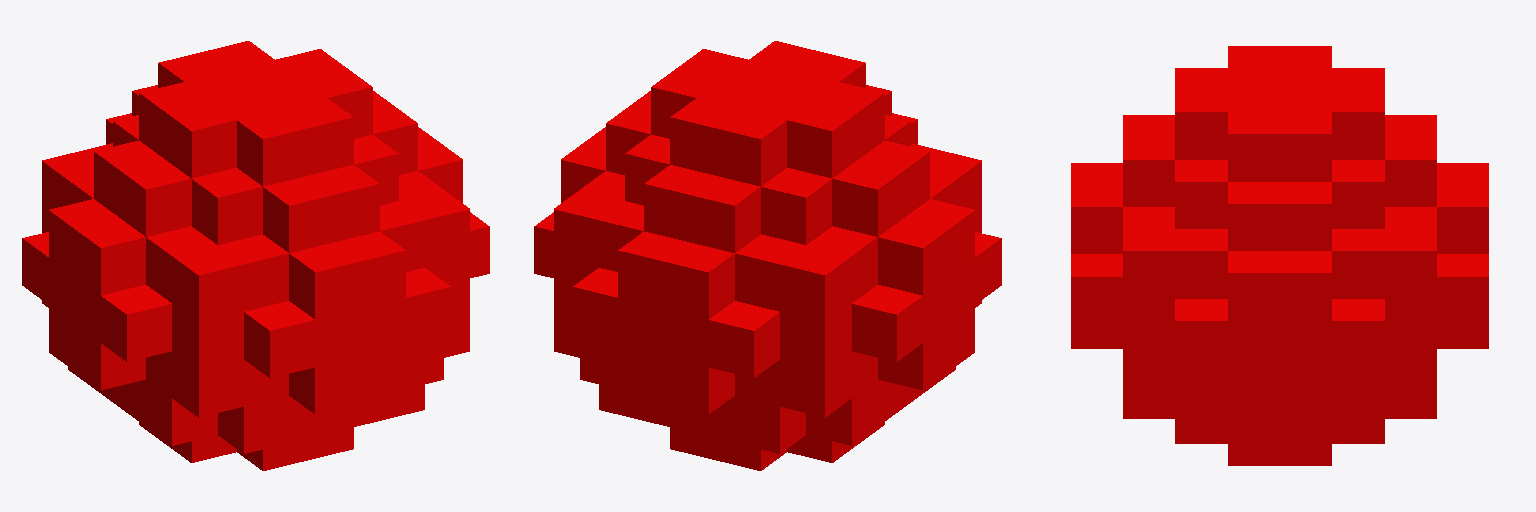
3 renders of one model, left to right at view 1: azimuth 30°, elevation 25°; view 2: azimuth 150°, elevation 25°; view 3: azimuth 270°, elevation 25°, orthographic.
Parts seen in each view (by area): view 1: object 1; view 2: object 1; view 3: object 1.
Boxes of the visible parts, x1,y1,x2,y2 form: object 1: [22, 41, 489, 470]; object 1: [534, 41, 1001, 470]; object 1: [1071, 46, 1488, 465].
Size of the model in its own units: 0.8 by 0.7 by 0.8.
Materials: 1 (1 with a texture image).